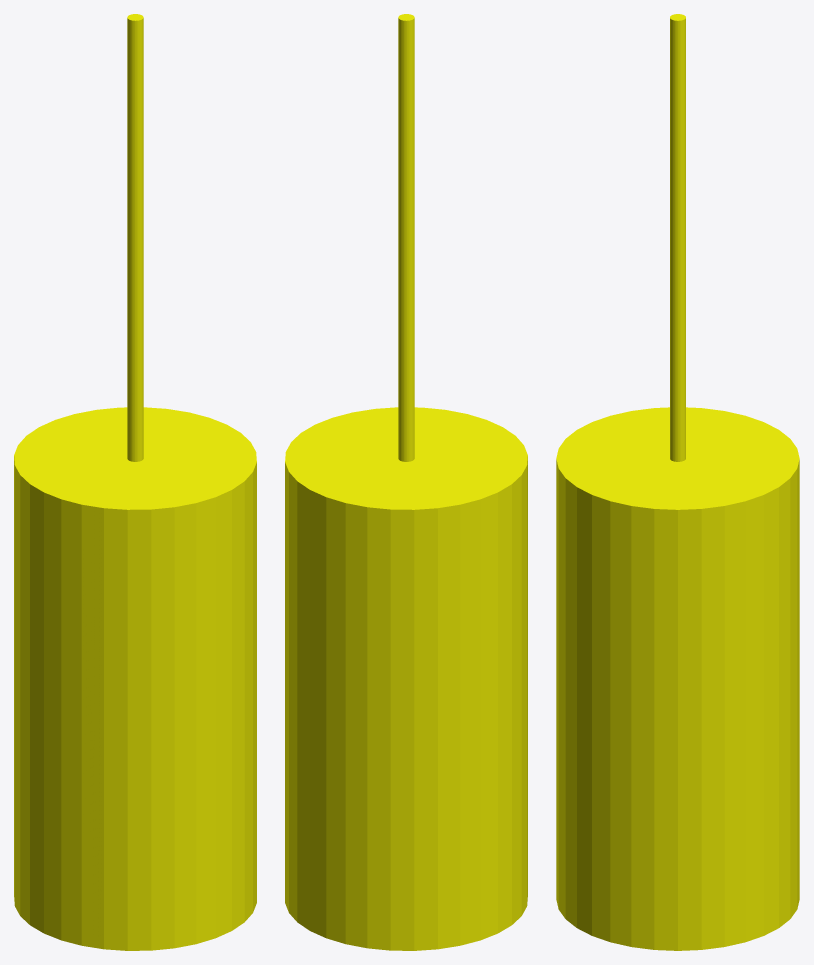
File: anchorNavTarget.glb
3 renders of one model, left to right at view 1: azimuth 30°, elevation 25°; view 2: azimuth 150°, elevation 25°; view 3: azimuth 270°, elevation 25°, orthographic.
Visible parts, largest first — view 1: Cylinder, Cylinder.001; view 2: Cylinder, Cylinder.001; view 3: Cylinder, Cylinder.001.
Part boxes in pixels (left/top/right/bottom): Cylinder: left=14, top=407, right=256, bottom=950; Cylinder.001: left=127, top=14, right=143, bottom=461; Cylinder: left=285, top=407, right=527, bottom=950; Cylinder.001: left=398, top=14, right=414, bottom=461; Cylinder: left=556, top=407, right=799, bottom=950; Cylinder.001: left=670, top=14, right=685, bottom=461.
Size of the model in its own units: 0.3 by 1.2 by 0.3.
